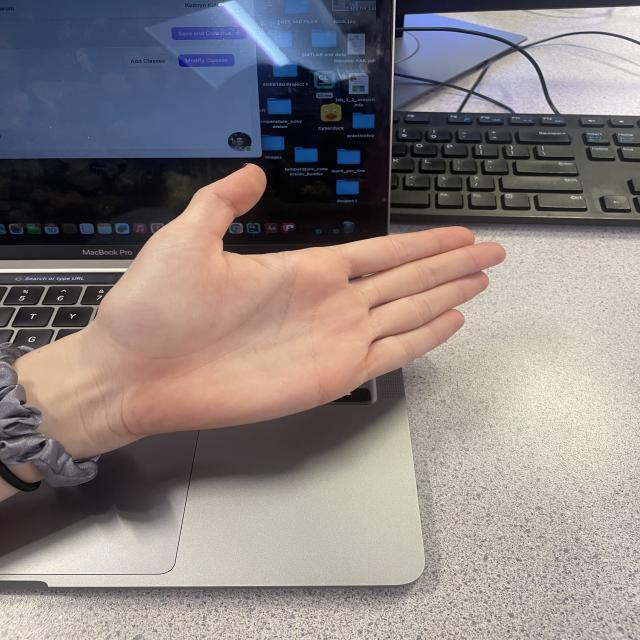keyboard-with-hands: (0, 262, 418, 580)
